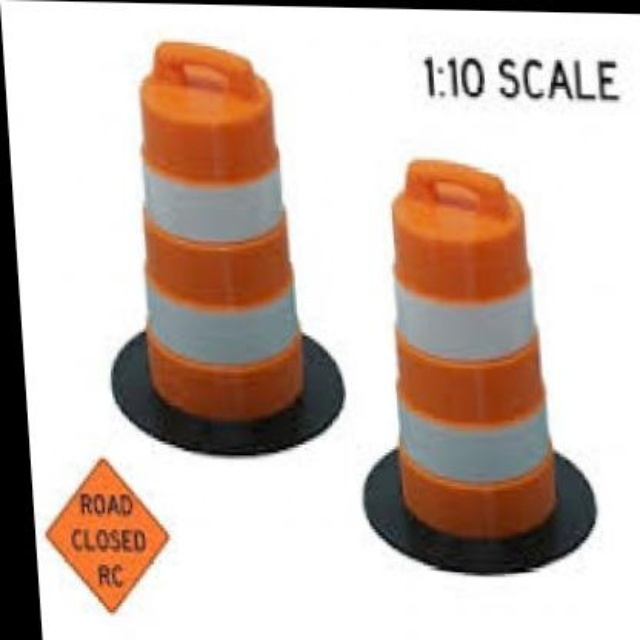obstacle: (130, 44, 312, 434), (380, 166, 561, 537)
